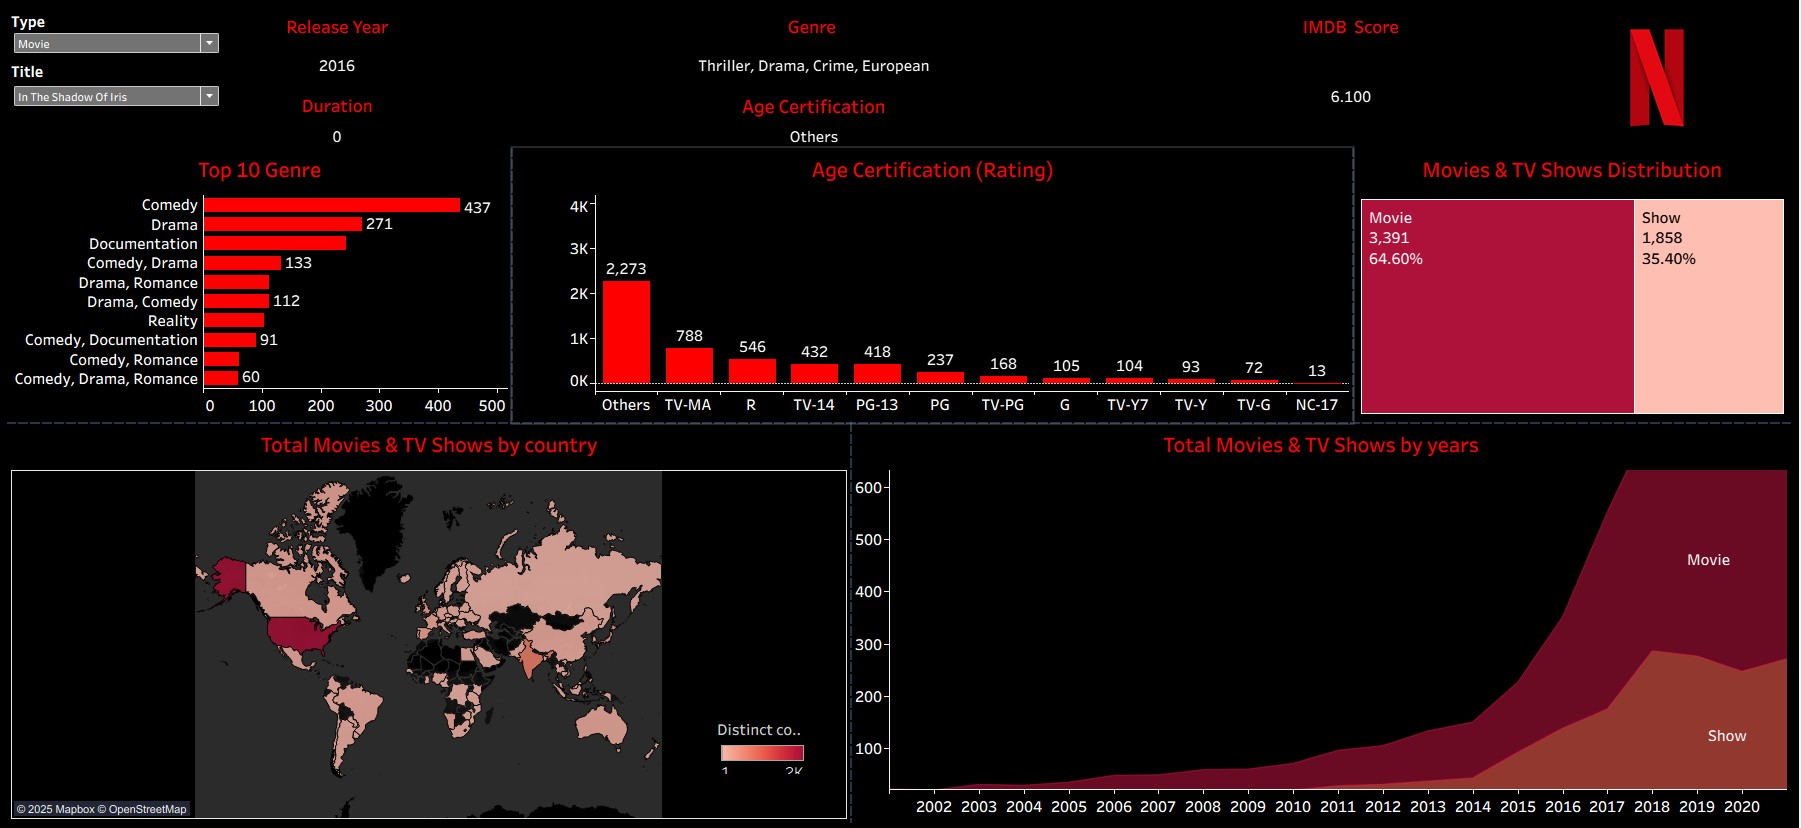

The dashboard page shown, as its layout file describes it:
{"tool":"tableau","page":{"name":"Netflix Dashboard","canvas":[1700,900],"ordinal":0},"visuals":[{"type":"filter","title":"Age Certification (1)","param":"[federated.1cwzr4i0n5k9uz1gxhzvt1iqr7pv].[none:type:nk]","box":[8,8,207,54.7]},{"type":"worksheet","title":"Release Year","mark":"Automatic","box":[215,8,210,86]},{"type":"worksheet","title":"Genre (1)","mark":"Automatic","box":[425,8,688,85.5]},{"type":"worksheet","title":"Release Year (2)","mark":"Automatic","box":[1113,8,326,153]},{"type":"image","param":"D:/PROJECTS/Netflix Dashboard/Logo-Netflix-Png-768x768.png","box":[1439,8,253,153]},{"type":"filter","title":"Age Certification (1)","param":"[federated.1cwzr4i0n5k9uz1gxhzvt1iqr7pv].[none:title:nk]","box":[8,62.7,207,98.3]},{"type":"worksheet","title":"Age Certification (1)","mark":"Automatic","box":[425,93.5,688,67.5]},{"type":"worksheet","title":"Duration","mark":"Automatic","box":[215,94,210,67]},{"type":"worksheet","title":"Top 10 Genre","mark":"Automatic","rows":["genre"],"cols":["id"],"box":[8,161,477,297.4]},{"type":"worksheet","title":"Age Certification (Rating)","mark":"Automatic","rows":["id"],"cols":["age_certification"],"box":[485,161,794,297.4]},{"type":"worksheet","title":"Movies & TV Shows Distribution","mark":"Automatic","box":[1279,161,413,297.4]},{"type":"worksheet","title":"Total Movies & TV Shows by country","mark":"Multipolygon","box":[8,458.4,797,433.6]},{"type":"worksheet","title":"Total movies & TV Shows by years","mark":"Area","rows":["id"],"cols":["release_year"],"box":[805,458.4,887,433.6]},{"type":"legend","title":"Total Movies & TV Shows by country","param":"[federated.1cwzr4i0n5k9uz1gxhzvt1iqr7pv].[ctd:id:qk]","box":[678,779,86,60]}]}

Visuals, with their boxes on the page's 1700x900 design canvas (x1, y1, x2, y2). These are canvas units, not pixel positions in the 1801x828 screenshot, which may show the page scaled, cropped or inside an application window:
"Age Certification (1)" filter: 8, 8, 215, 63
"Release Year" worksheet: 215, 8, 425, 94
"Genre (1)" worksheet: 425, 8, 1113, 94
"Release Year (2)" worksheet: 1113, 8, 1439, 161
image: 1439, 8, 1692, 161
"Age Certification (1)" filter: 8, 63, 215, 161
"Age Certification (1)" worksheet: 425, 94, 1113, 161
"Duration" worksheet: 215, 94, 425, 161
"Top 10 Genre" worksheet: 8, 161, 485, 458
"Age Certification (Rating)" worksheet: 485, 161, 1279, 458
"Movies & TV Shows Distribution" worksheet: 1279, 161, 1692, 458
"Total Movies & TV Shows by country" worksheet (Multipolygon marks): 8, 458, 805, 892
"Total movies & TV Shows by years" worksheet (Area marks): 805, 458, 1692, 892
"Total Movies & TV Shows by country" legend: 678, 779, 764, 839
